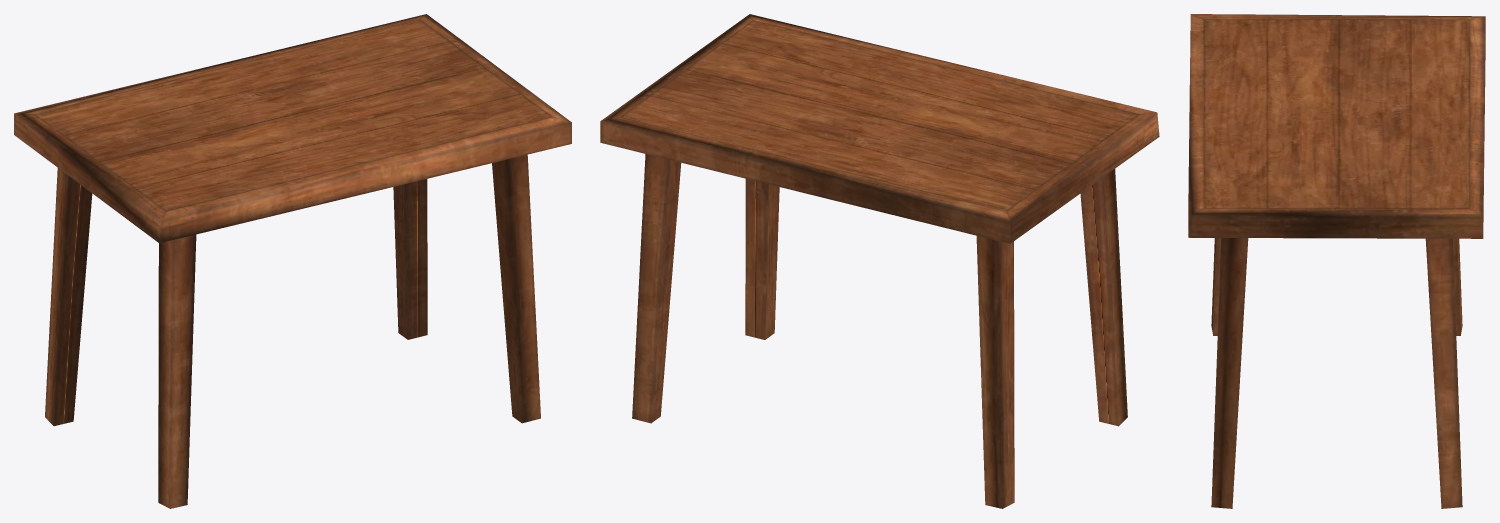
Rendered from wooden_table_02.glb.
3 views of the same model, side by side, from view 1: azimuth 30°, elevation 25°; view 2: azimuth 150°, elevation 25°; view 3: azimuth 270°, elevation 25° (orthographic).
Visible parts, largest first — view 1: wooden_table_02; view 2: wooden_table_02; view 3: wooden_table_02.
Boxes of the visible parts, box(x1,y1,x2,y2) form: wooden_table_02: box(14, 14, 571, 508); wooden_table_02: box(600, 14, 1159, 508); wooden_table_02: box(1188, 14, 1485, 508).
Size of the model in its own units: 1.13 by 0.7954 by 0.7061.
1 material, 1 textured.
